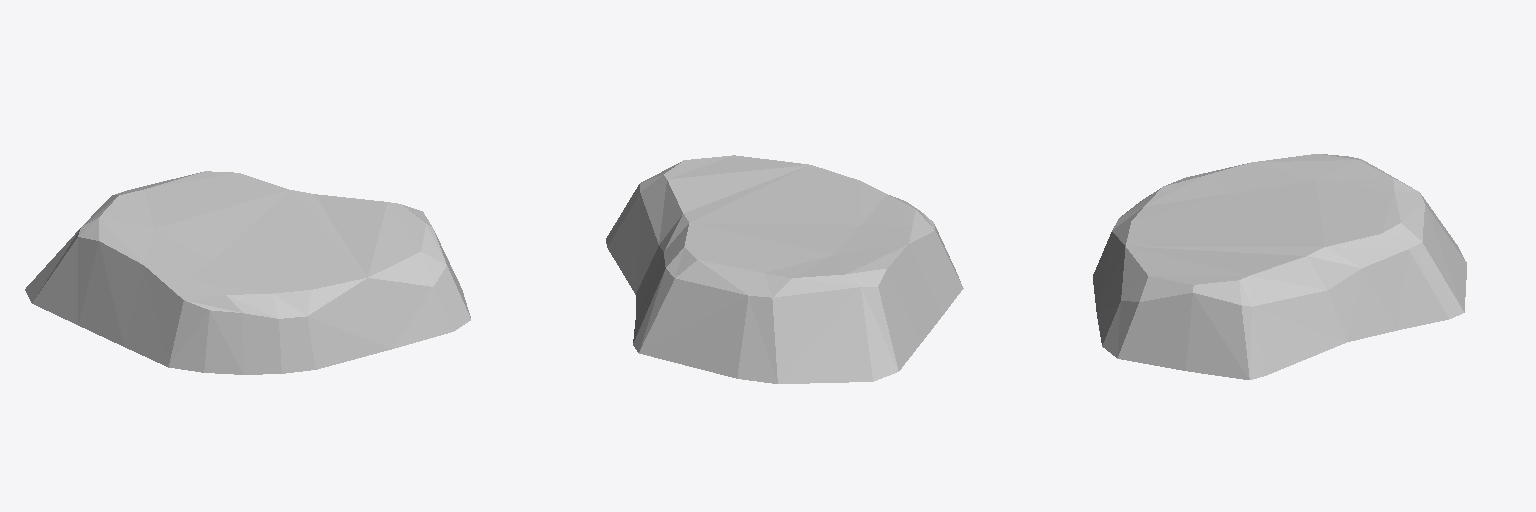
The model's file is Pebble_Round_2.obj.
3 renders of one model, left to right at view 1: azimuth 30°, elevation 25°; view 2: azimuth 150°, elevation 25°; view 3: azimuth 270°, elevation 25°, orthographic.
Parts seen in each view (by area): view 1: Pebble_Round_2; view 2: Pebble_Round_2; view 3: Pebble_Round_2.
Part boxes in pixels (x1,y1,x2,y2): Pebble_Round_2: (25,171,470,374); Pebble_Round_2: (606,155,963,383); Pebble_Round_2: (1093,154,1466,379).
Size of the model in its own units: 0.4495 by 0.0942 by 0.4111.